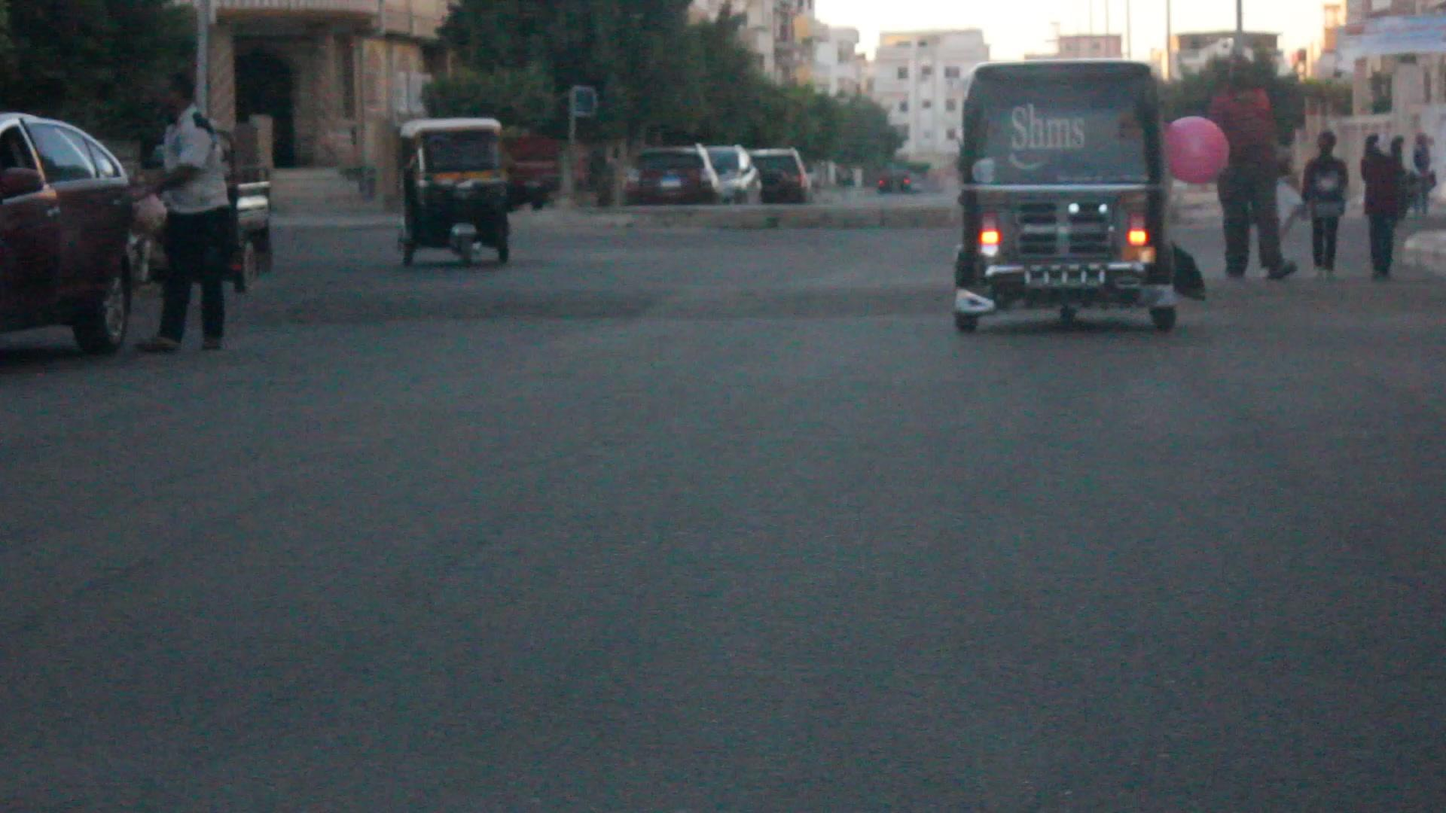Bump: (252, 282, 945, 331), (1192, 277, 1446, 329)
